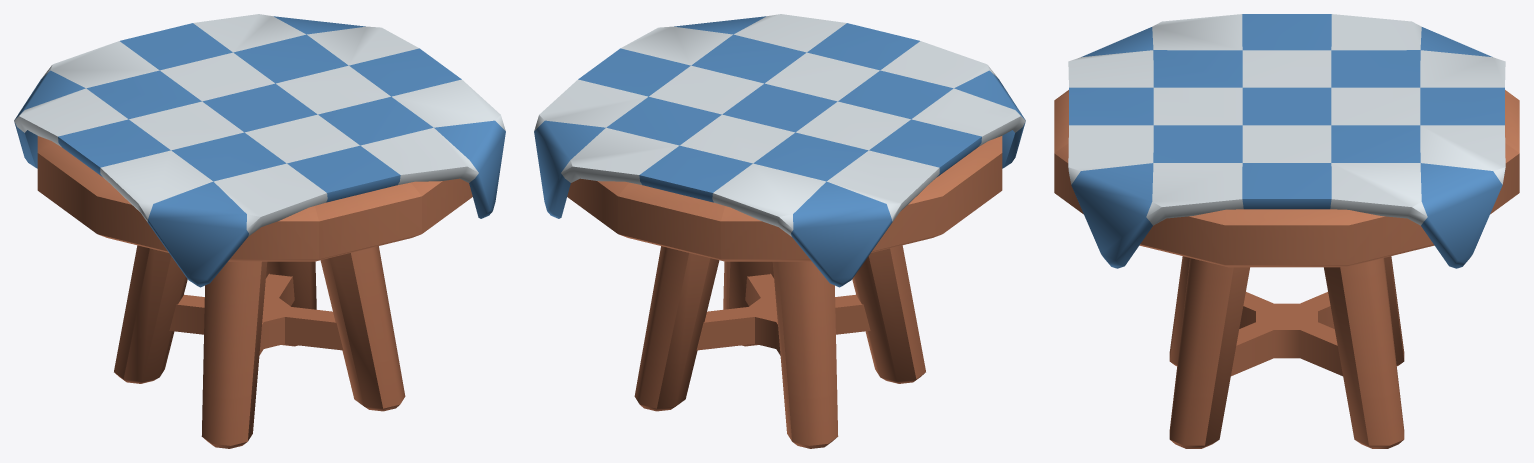
Rendered from table-round-b.glb.
3 views of the same model, side by side, from view 1: azimuth 30°, elevation 25°; view 2: azimuth 150°, elevation 25°; view 3: azimuth 270°, elevation 25° (orthographic). The views are drawn at different scales.
Visible parts, largest first — view 1: table_round_B; view 2: table_round_B; view 3: table_round_B.
Boxes of the visible parts, left/top/right/bottom form: table_round_B: left=14, top=14, right=505, bottom=448; table_round_B: left=534, top=14, right=1025, bottom=448; table_round_B: left=1054, top=14, right=1519, bottom=448.
Bounding box in the file's own units: 1.5 × 1.05 × 1.5.
1 material, 1 textured.
